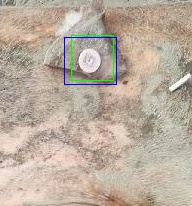text: (71, 35, 113, 80)
